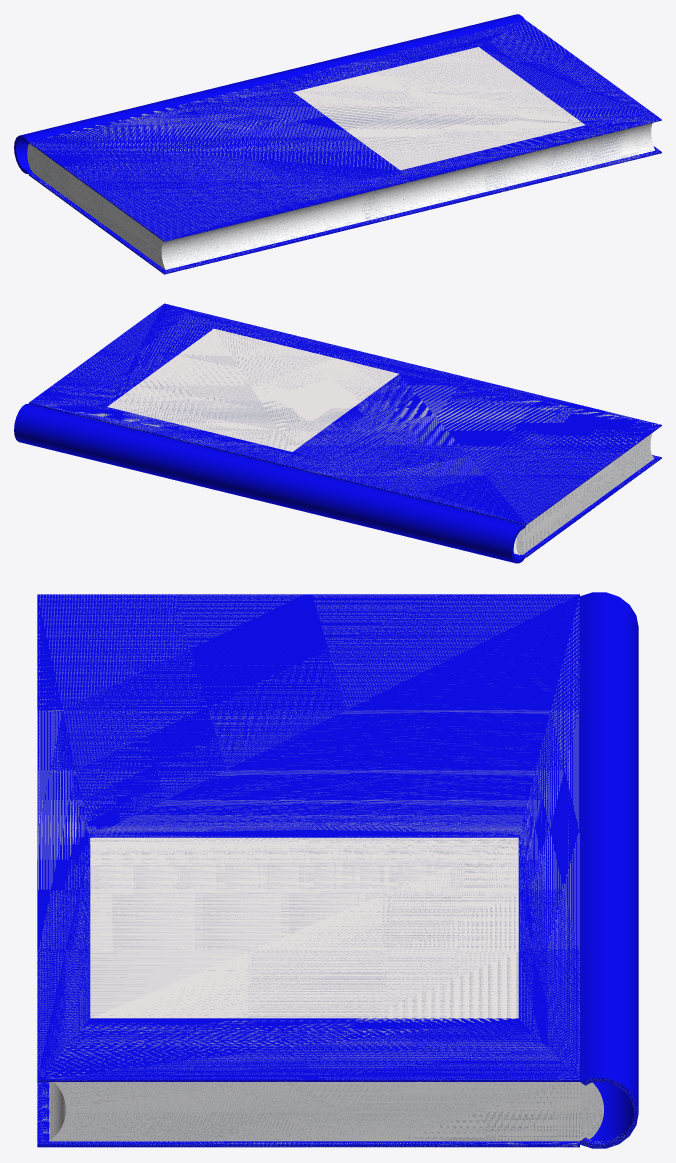
3 renders of one model, top to bottom at view 1: azimuth 30°, elevation 25°; view 2: azimuth 150°, elevation 25°; view 3: azimuth 270°, elevation 25°, orthographic. The views are drawn at different scales.
Visible parts, largest first — view 1: SketchUp (×4); view 2: SketchUp (×4); view 3: SketchUp (×4).
Part boxes in pixels (x1,y1,x2,y2): SketchUp (×4): (14, 14, 661, 274); SketchUp (×4): (14, 303, 661, 563); SketchUp (×4): (37, 592, 638, 1148).
Size of the model in its own units: 519 by 272 by 35.26.
